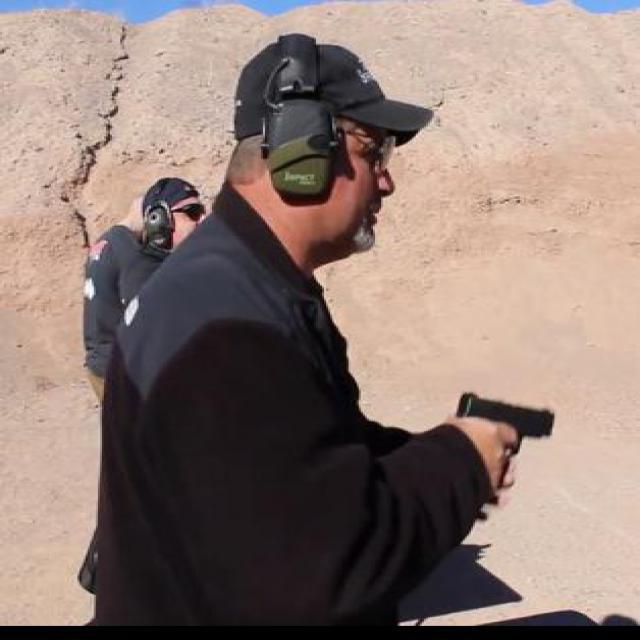Gun: (451, 388, 556, 499)
